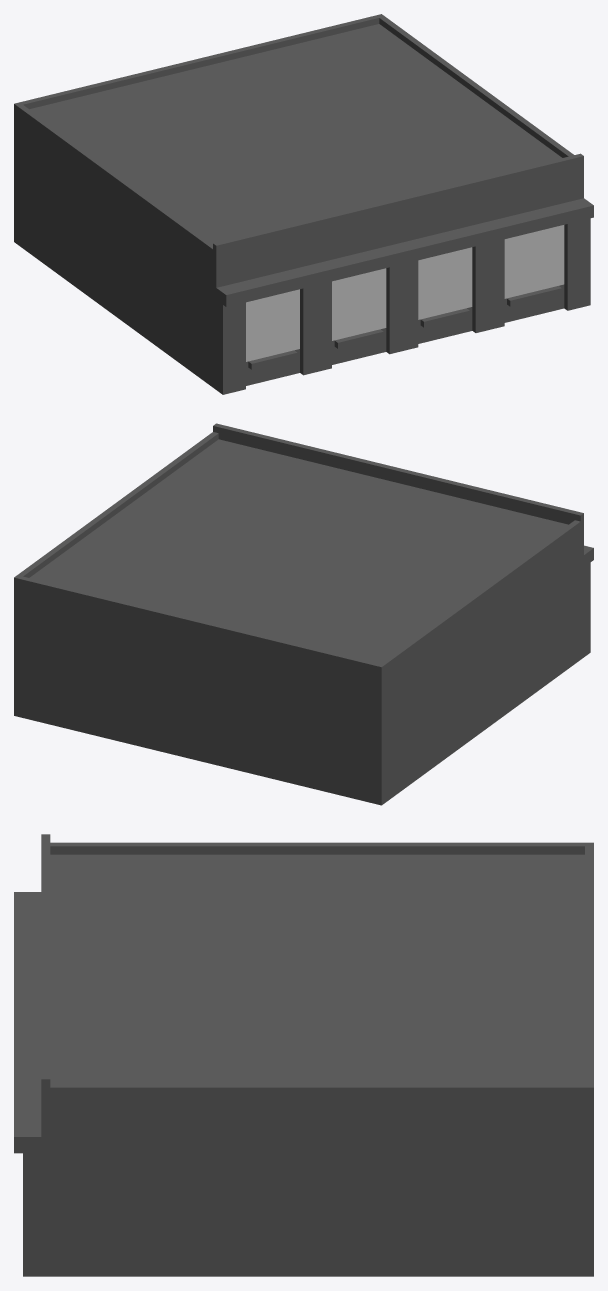
Rendered from bld_store13.obj.
3 views of the same model, one above another, from view 1: azimuth 30°, elevation 25°; view 2: azimuth 150°, elevation 25°; view 3: azimuth 270°, elevation 25° (orthographic). The views are drawn at different scales.
Size of the model in its own units: 64 by 24 by 64.
